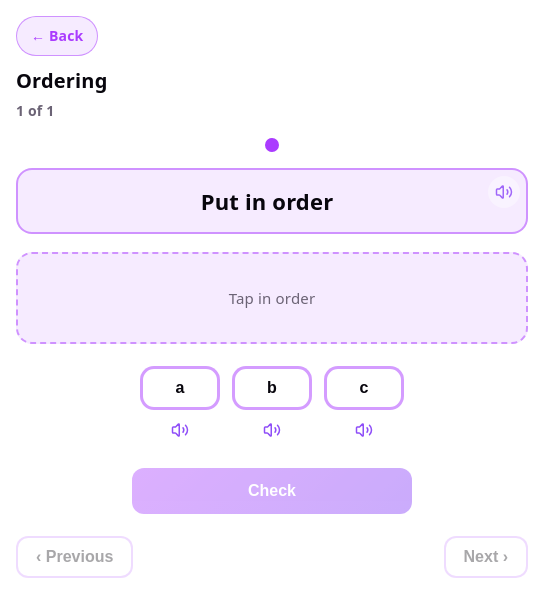
BundlePlayer — ordering › builds the sequence by tapping and submits it
The width and height of the screenshot is (545, 595).
Expected: the text "Put in order" is shown, [201,188,333,214]
Step 1. Click the button "a" → (180, 388), box [140,366,220,410]
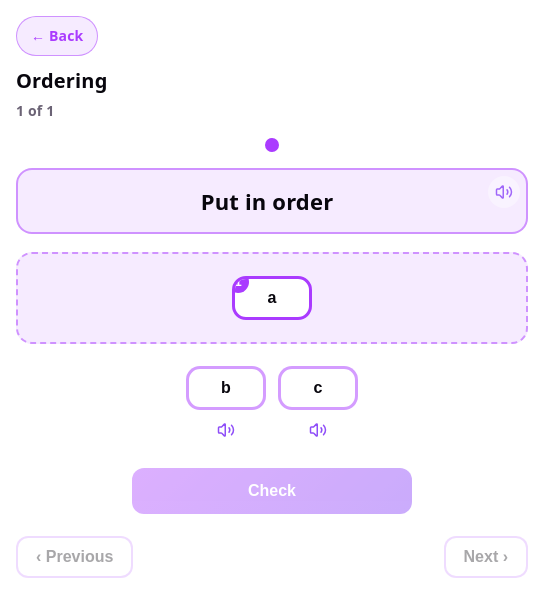
Step 2. Click the button "b" → (226, 388), box [186,366,266,410]
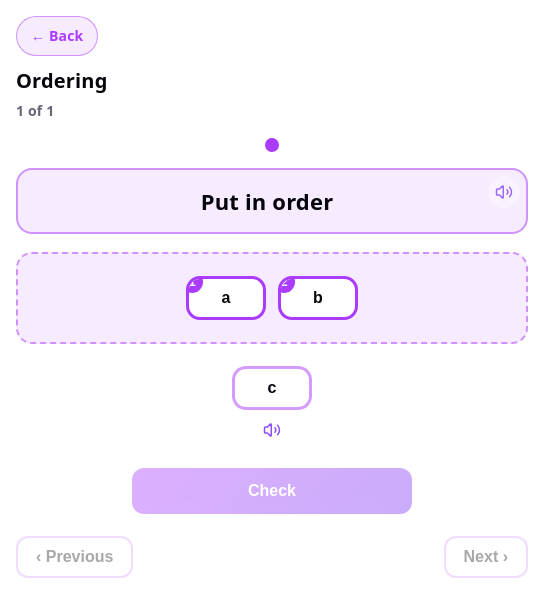
Step 3. Click the button "c" → (272, 388), box [232,366,312,410]
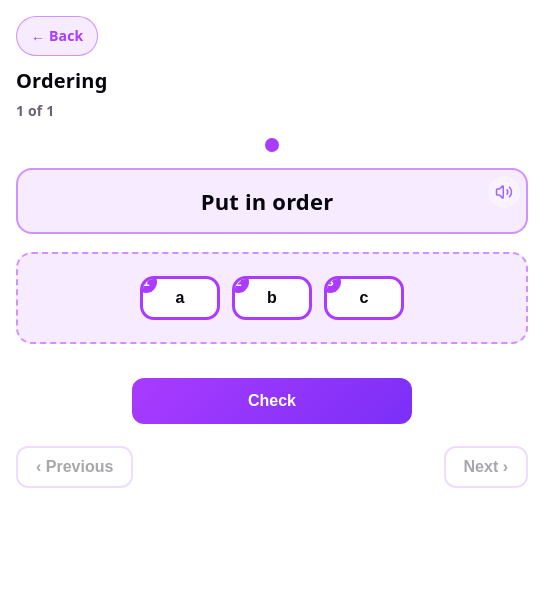
Step 4. Click the button "Check" → (272, 401), box [132,378,412,424]
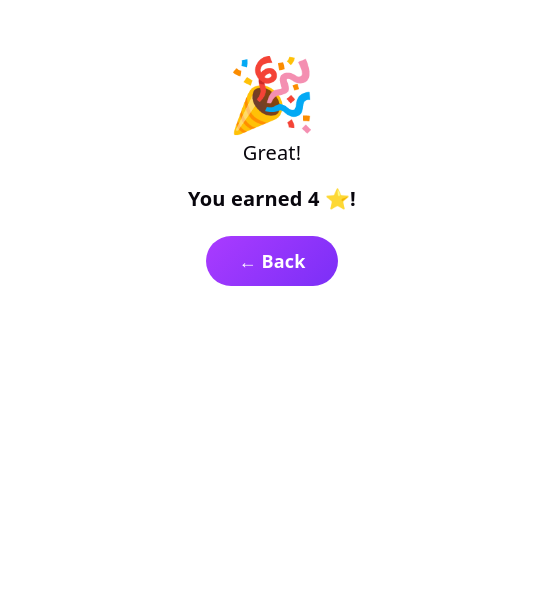
Now the heading "Great!" is shown, box [243,139,301,166]
Now the text "You earned 4 ⭐!" is shown, box [188,185,356,212]
